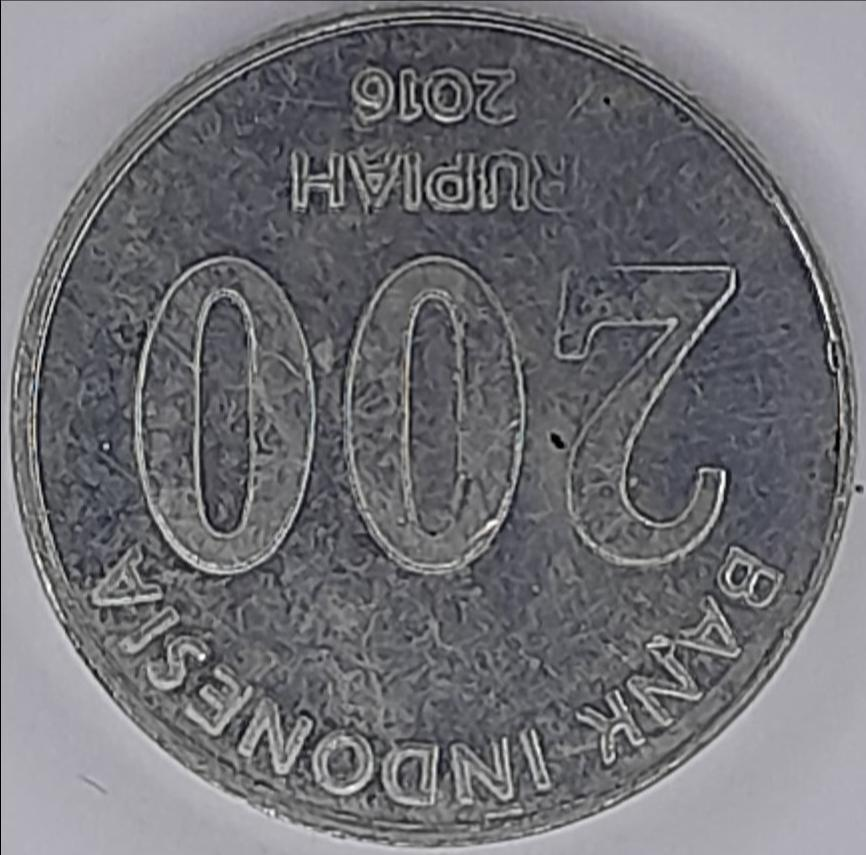coin_200_e2016: (0, 15, 866, 855)
